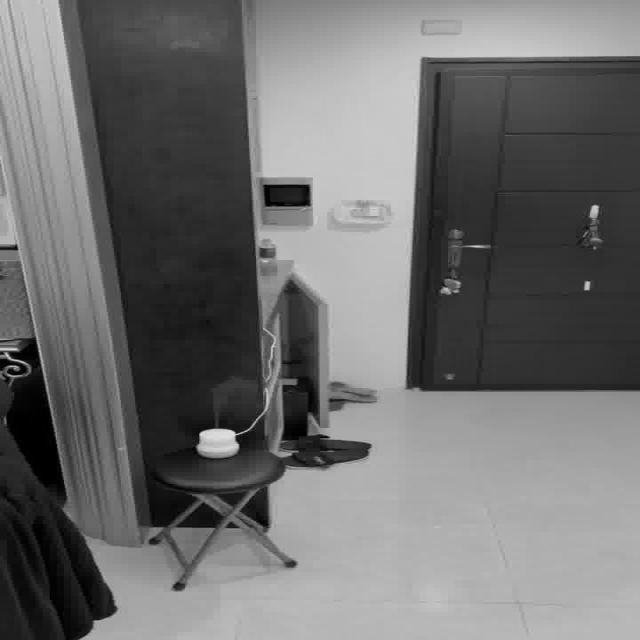fire: (208, 378, 253, 420)
